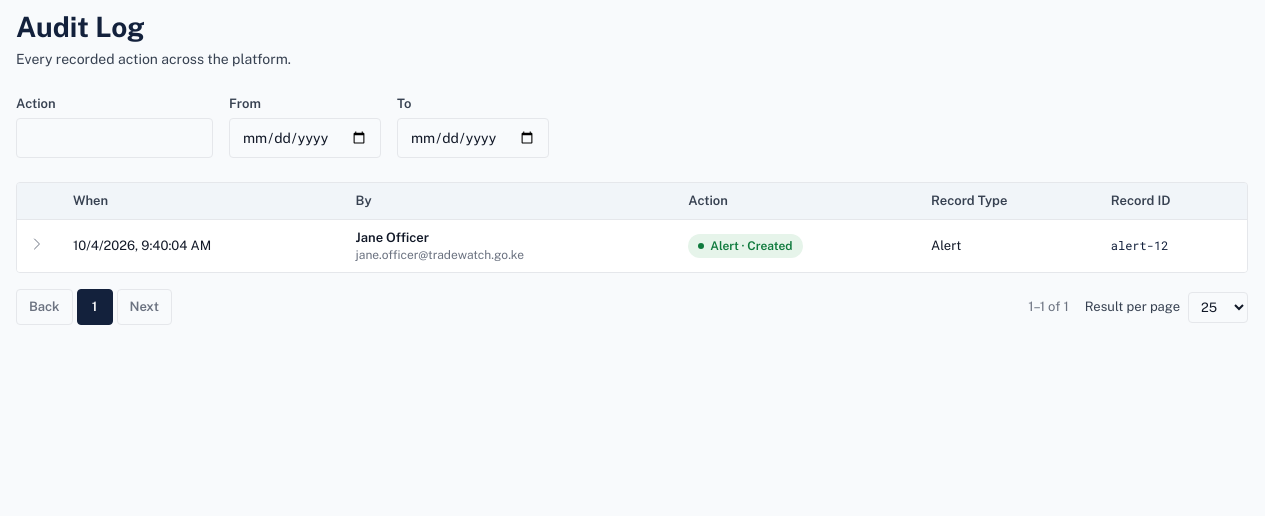
it: AuditLogPage › marks a created entry as a new record with no before state
Expected: the text "Jane Officer" is shown, [356,230,429,245]
Click the button named "Show what changed".
click(37, 244)  # box [27,234,47,254]
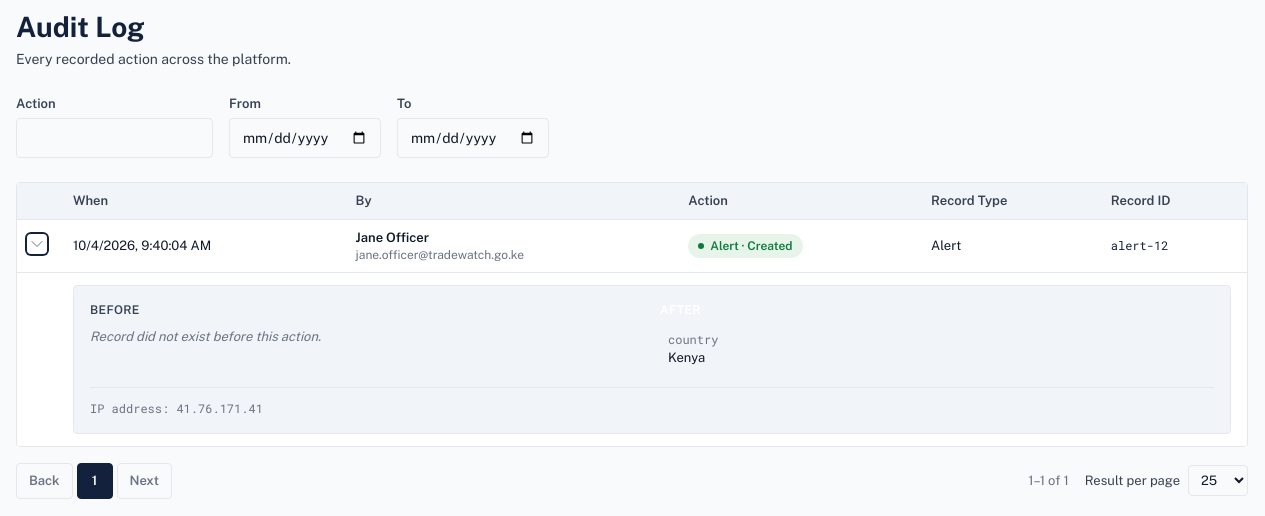
Result: the text "Record did not exist before this action." is shown at [90,329,321,344]
Result: the text "Kenya" is shown at [668,350,705,365]
